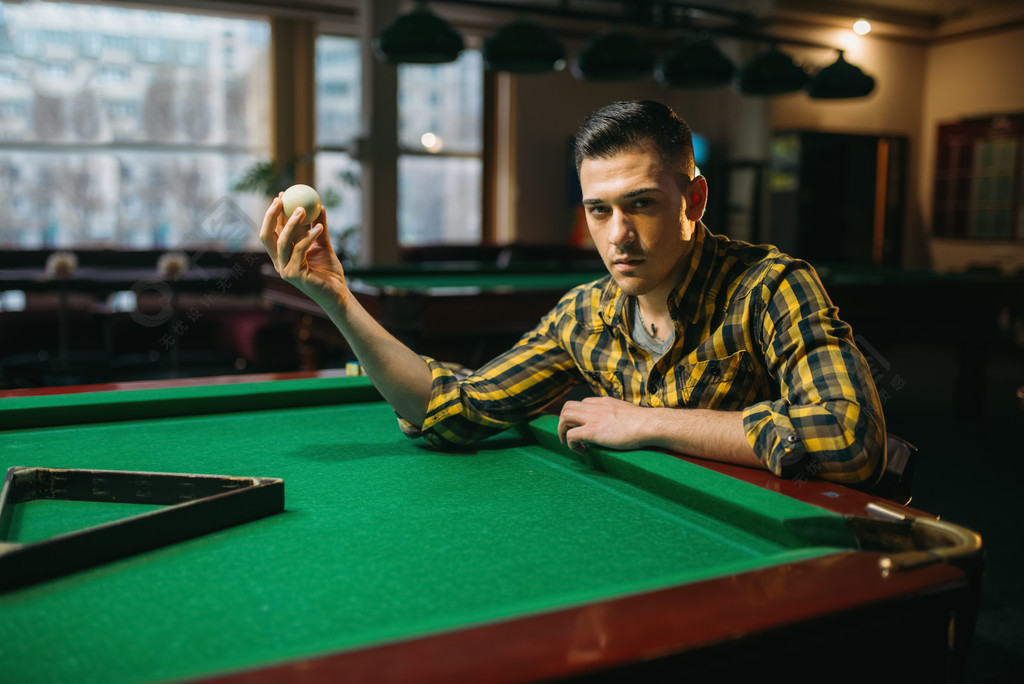no-phone: (257, 178, 349, 310)
